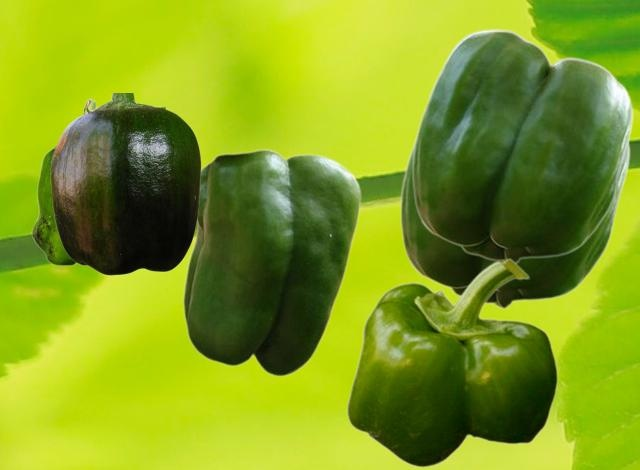bell_pepper: (411, 28, 632, 263), (346, 258, 557, 467), (399, 126, 629, 308), (182, 148, 361, 376), (50, 93, 200, 274), (31, 98, 97, 265)
